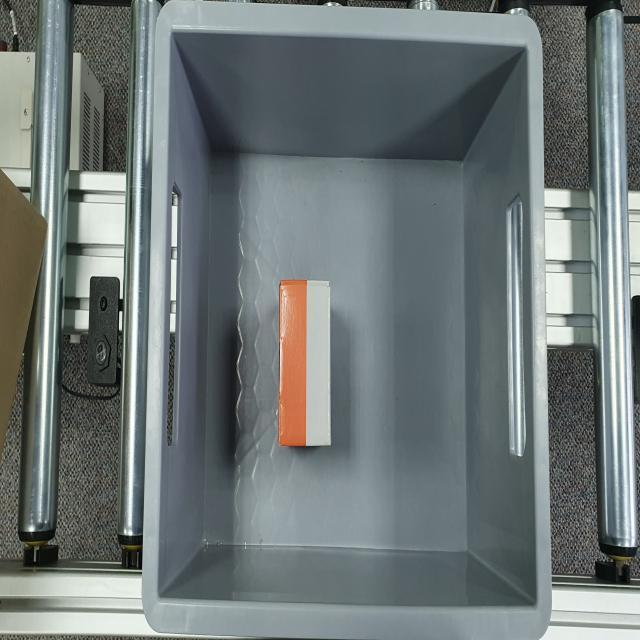box: (278, 276, 331, 452)
